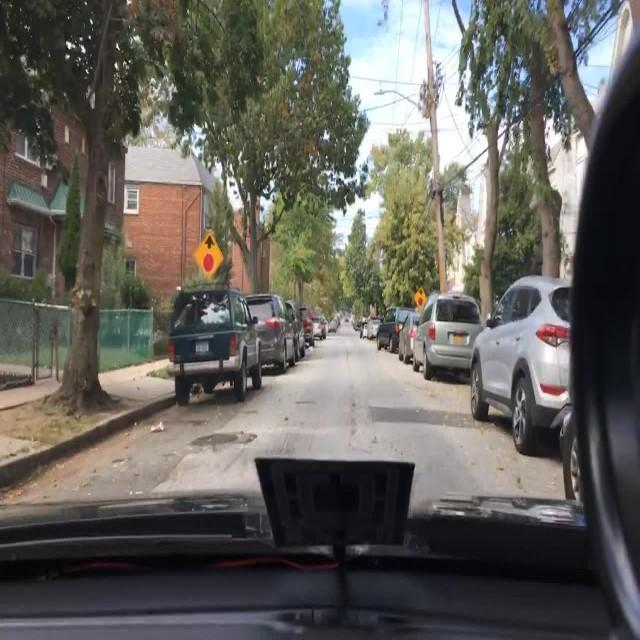normal: (375, 239, 580, 488), (136, 233, 370, 429)
